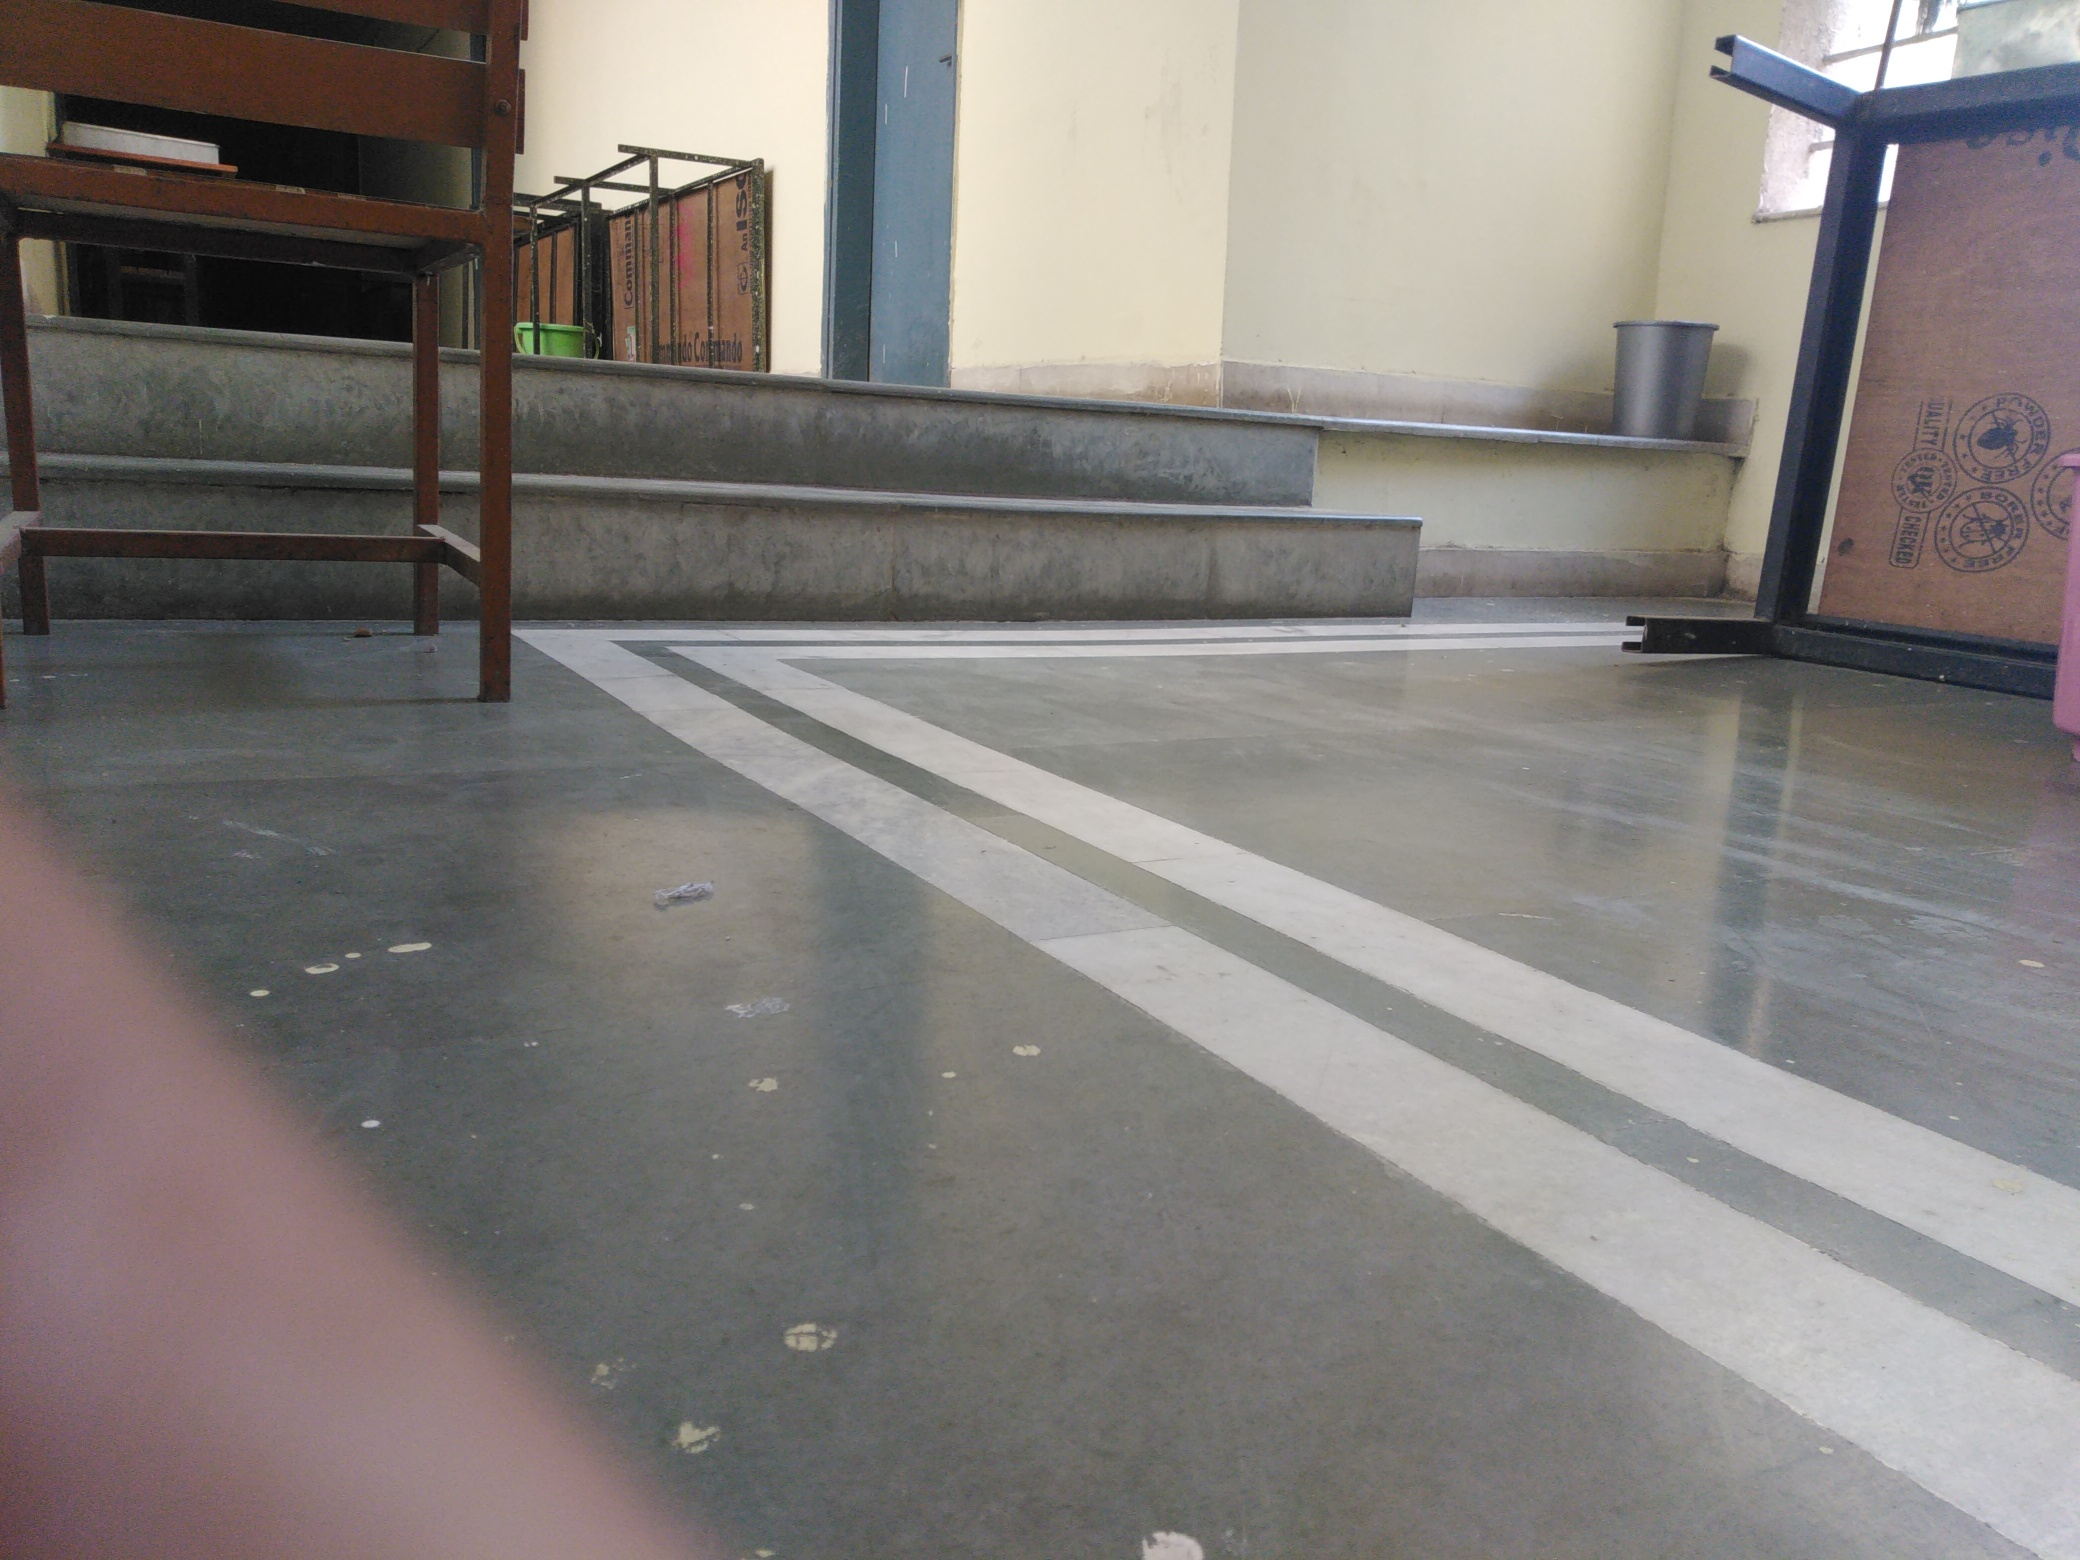stairs_up: (522, 347, 1422, 644)
